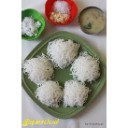idiyappam: (73, 53, 101, 81), (24, 58, 58, 81), (49, 40, 77, 66), (37, 80, 62, 108), (64, 80, 87, 106)
